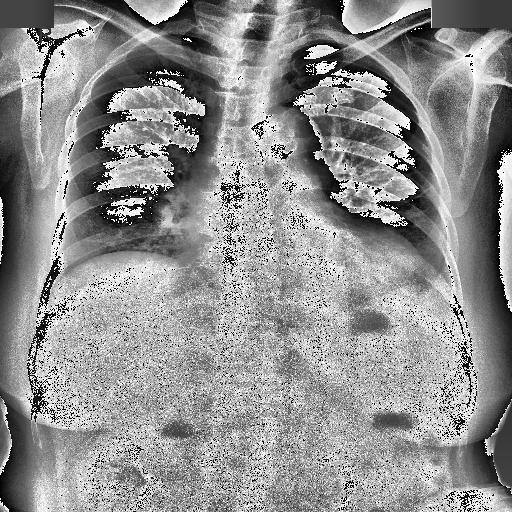0- Aortic enlargement: (259, 104, 329, 180), (262, 108, 328, 176), (254, 106, 322, 158)
13- Pulmonary fibrosis: (384, 182, 434, 208), (378, 169, 432, 193)
3- Cardiomegaly: (182, 218, 422, 290), (186, 228, 432, 294), (181, 234, 429, 291)
